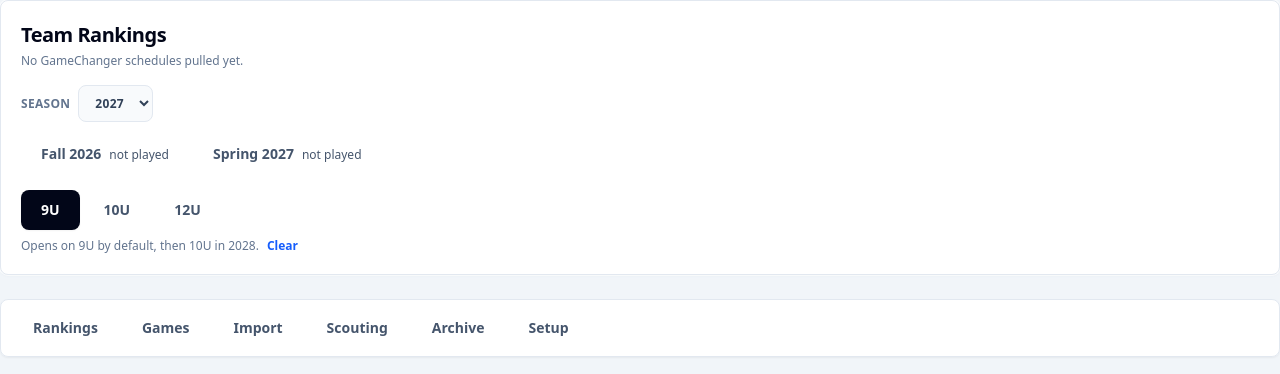
a default age for Team Rankings › is forgotten by Clear
Click the button "Clear".
click(282, 246)  # box [267, 238, 298, 254]
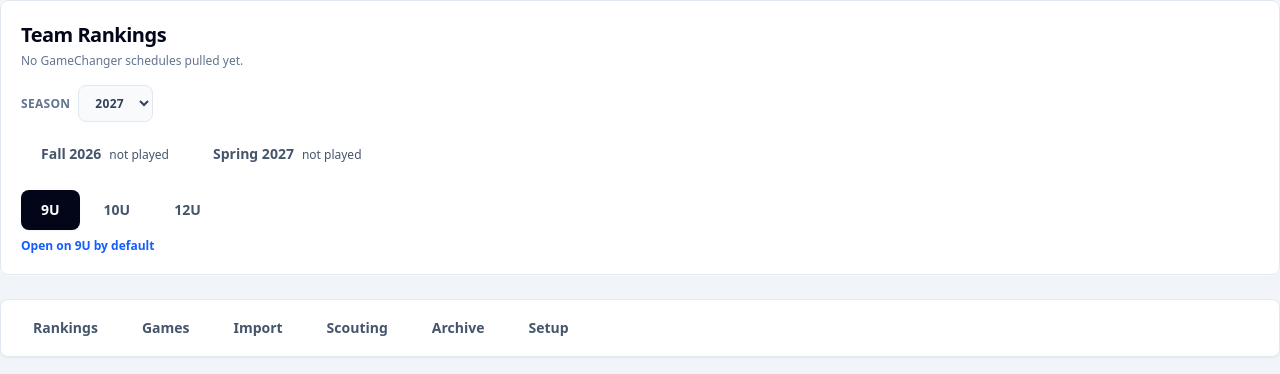
expect the button "Open on 9U by default" is shown: met, box [21, 238, 154, 254]
